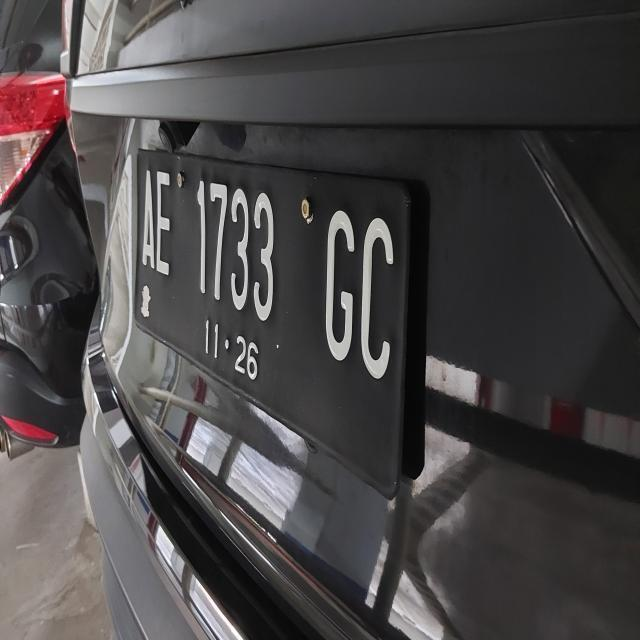1: (195, 173, 210, 296)
3: (250, 191, 276, 322), (228, 180, 250, 313)
7: (209, 172, 229, 309)
A: (138, 166, 158, 280)
C: (360, 214, 396, 386)
E: (156, 162, 172, 284)
G: (325, 205, 358, 364)
